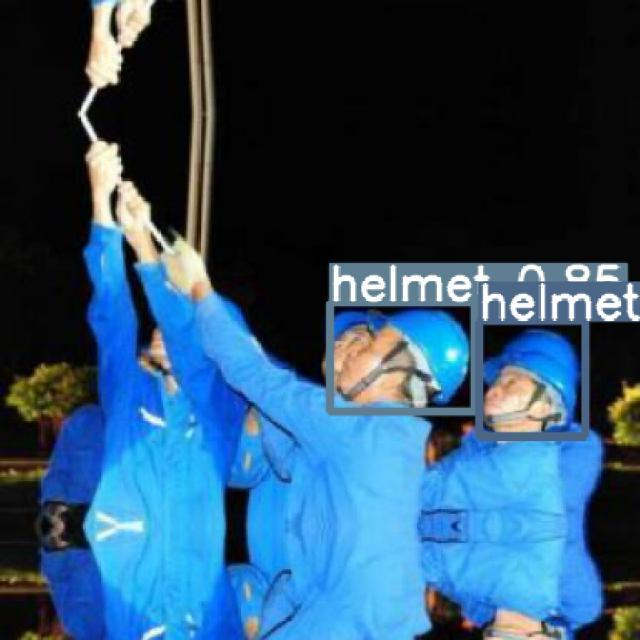Helmet: (481, 327, 581, 434)
